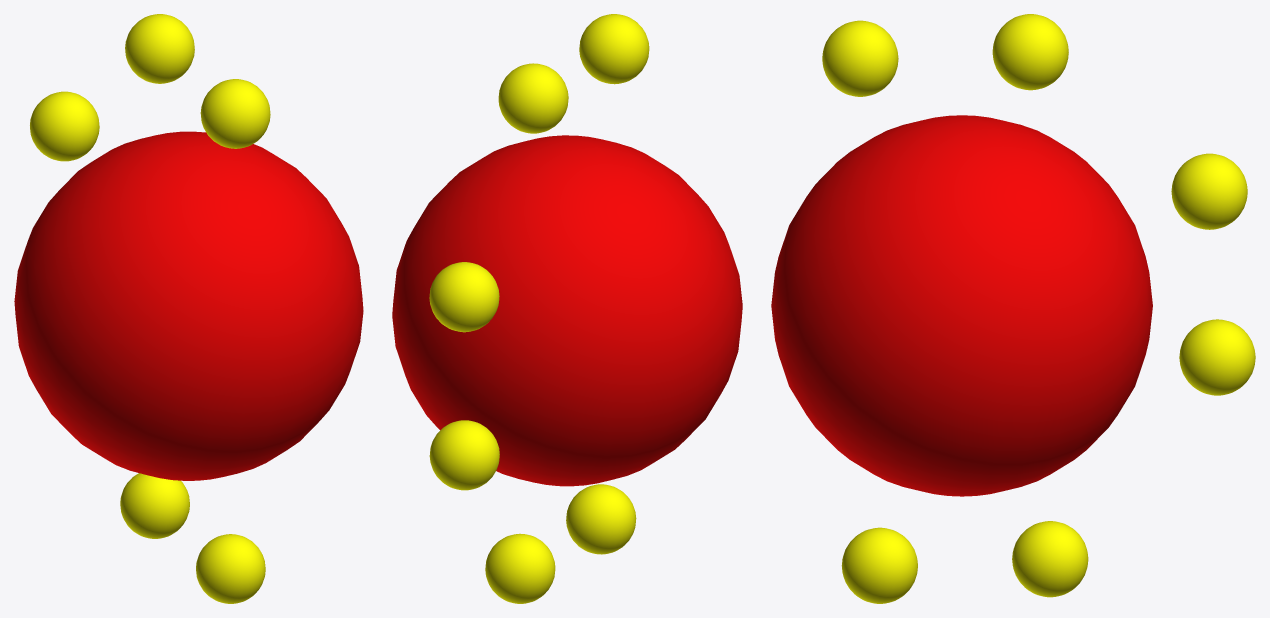
The model's file is O2_atom1.fbx.
3 views of the same model, side by side, from view 1: azimuth 30°, elevation 25°; view 2: azimuth 150°, elevation 25°; view 3: azimuth 270°, elevation 25° (orthographic). The views are drawn at different scales.
Parts seen in each view (by area): view 1: Sphere, Sphere.003, Sphere.006, Sphere.005, Sphere.001, Sphere.004; view 2: Sphere, Sphere.007, Sphere.005, Sphere.006, Sphere.003, Sphere.004, Sphere.001; view 3: Sphere, Sphere.001, Sphere.006, Sphere.004, Sphere.007, Sphere.003, Sphere.005.
Part boxes in pixels (x1,y1,x2,y2): Sphere: (14, 131, 363, 480); Sphere.003: (125, 14, 194, 83); Sphere.006: (30, 91, 99, 161); Sphere.005: (196, 534, 265, 603); Sphere.001: (200, 79, 270, 148); Sphere.004: (120, 473, 189, 538); Sphere: (392, 135, 742, 486); Sphere.007: (429, 420, 499, 490); Sphere.005: (566, 484, 636, 554); Sphere.006: (429, 262, 499, 332); Sphere.003: (498, 63, 568, 133); Sphere.004: (485, 533, 555, 603); Sphere.001: (579, 14, 649, 84); Sphere: (771, 115, 1152, 496); Sphere.001: (822, 20, 898, 96); Sphere.006: (1171, 153, 1247, 229); Sphere.004: (1012, 521, 1088, 597); Sphere.007: (1179, 319, 1255, 395); Sphere.003: (992, 14, 1068, 90); Sphere.005: (841, 527, 917, 603).
Bounding box in the file's own units: 200 × 336 × 254.
